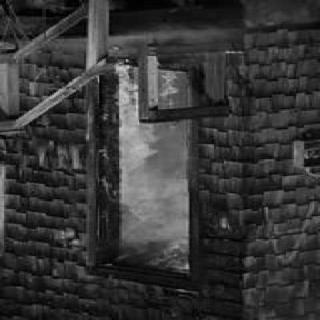Fire: (100, 62, 208, 284)
